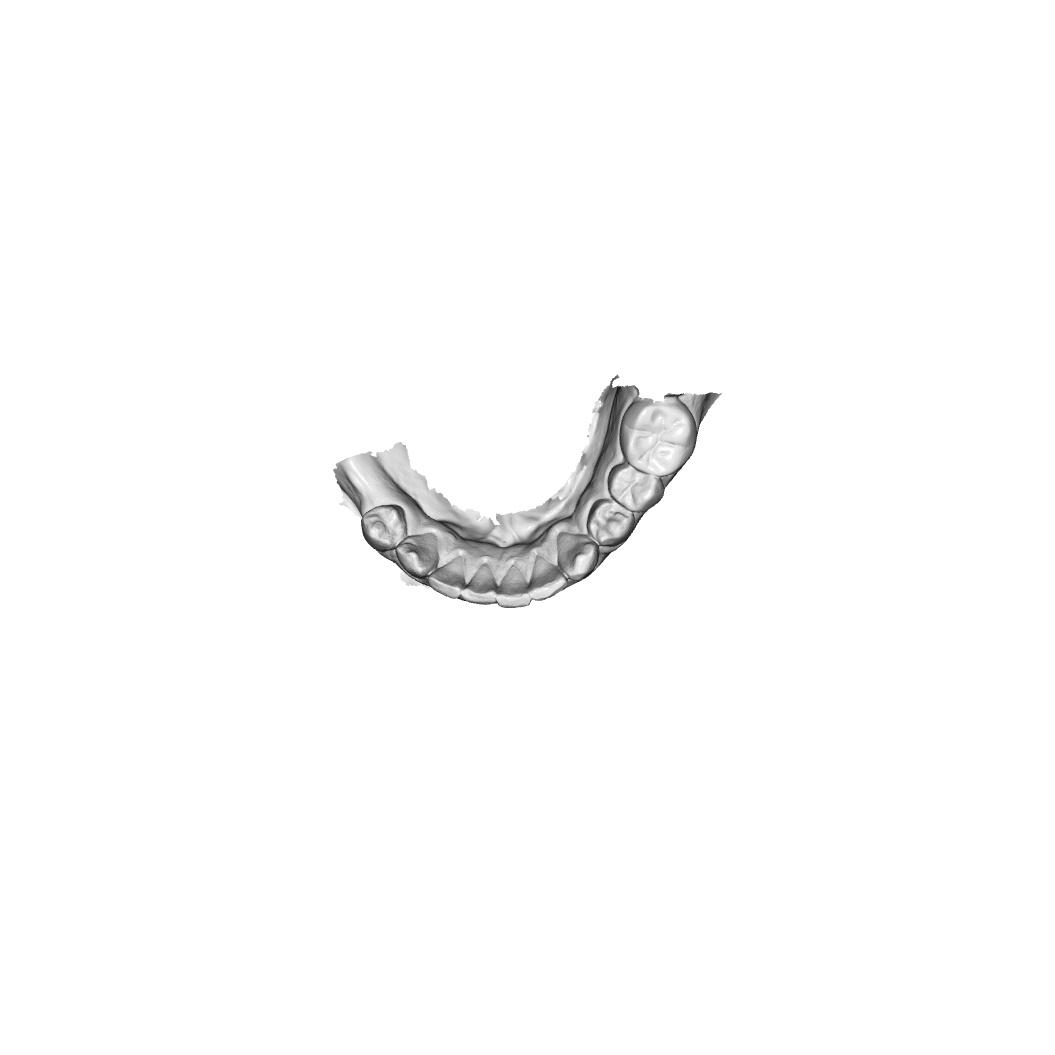canine: (556, 530, 600, 582), (395, 531, 440, 580)
incisor: (529, 554, 568, 602), (427, 556, 465, 600), (496, 563, 532, 609), (462, 562, 497, 606)
molar: (618, 396, 698, 477)
premolar: (607, 462, 665, 512), (586, 498, 636, 548), (360, 503, 408, 553)
